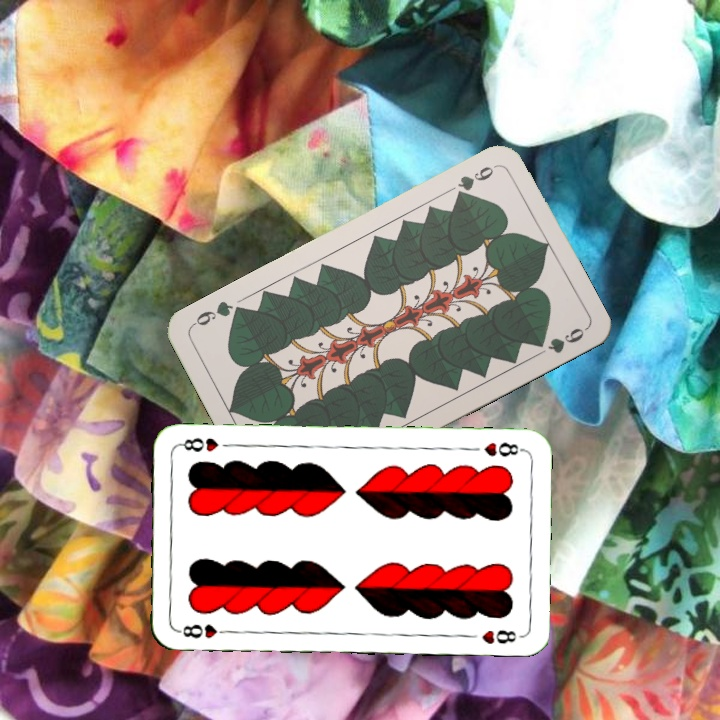G9: (451, 160, 500, 201)
H8: (174, 619, 233, 641), (480, 438, 526, 460)
